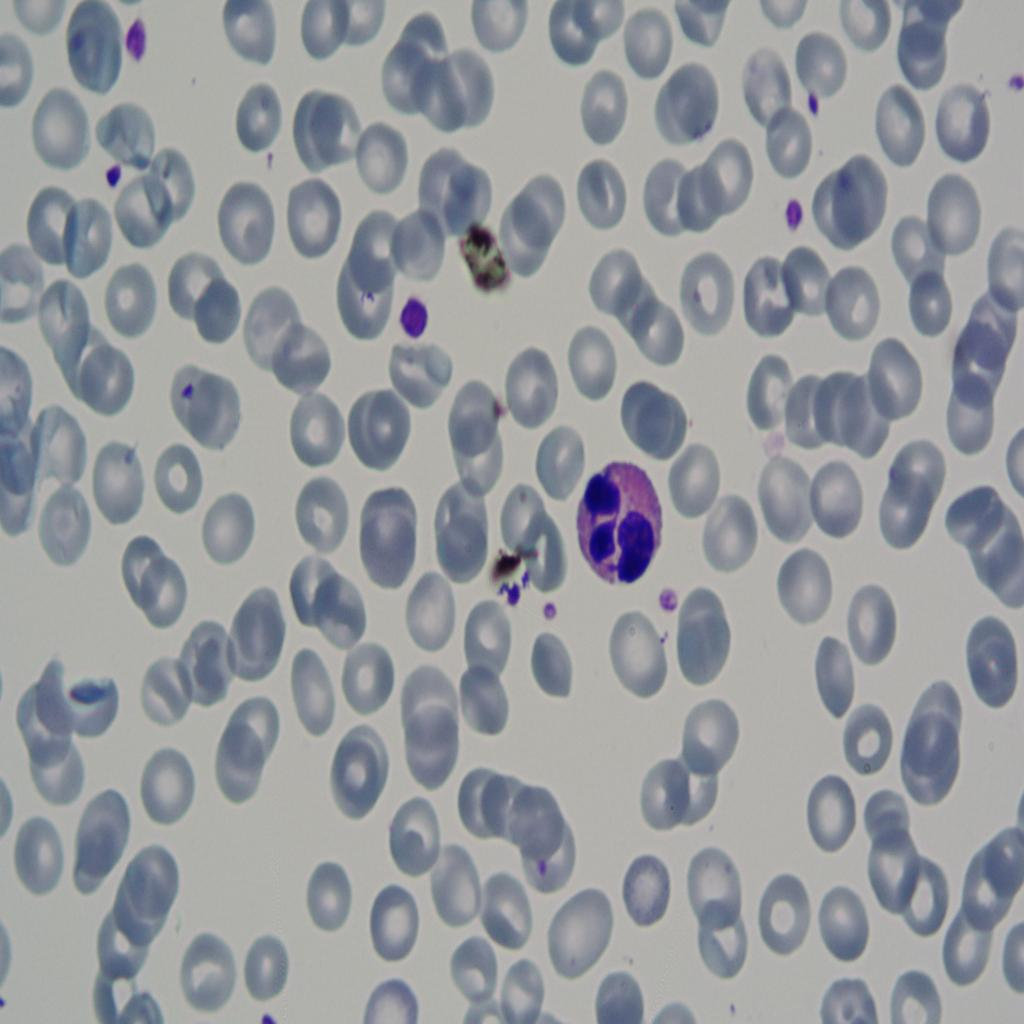Eosinofil: (577, 442, 660, 592)
Platelet: (390, 276, 442, 338), (792, 82, 842, 131), (994, 56, 1024, 116), (534, 583, 570, 633), (656, 581, 690, 632), (112, 17, 146, 64), (99, 150, 127, 202), (784, 192, 808, 234), (835, 159, 853, 197)
